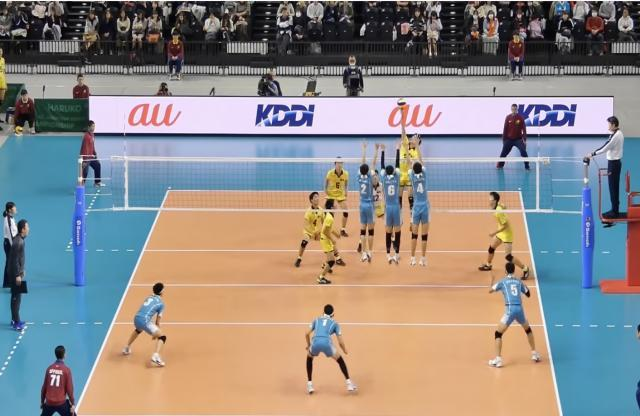block: (399, 134, 436, 270), (376, 140, 404, 266), (356, 138, 379, 264)
